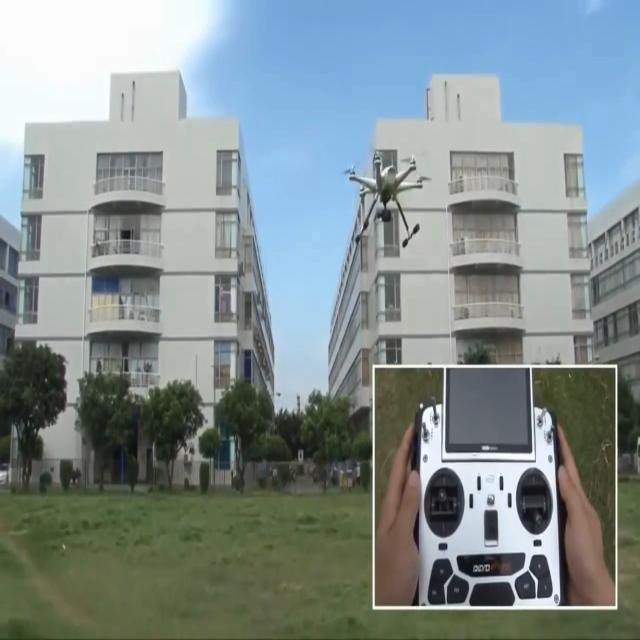drone: (344, 149, 432, 248)
